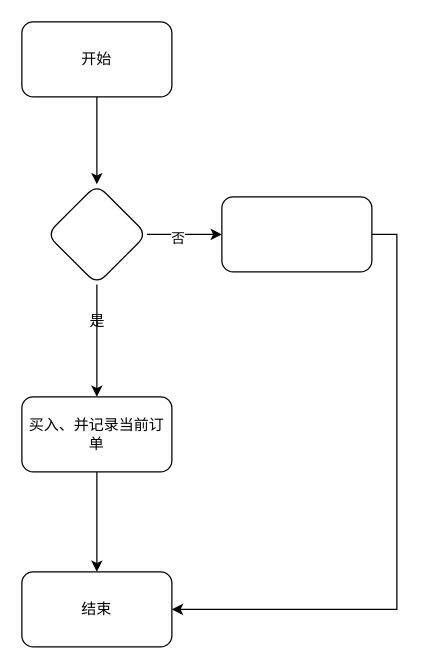
Some shapes in this 429 by 669 pixel diagram are drawn without their labels. Here are the shapes that lost their labels. From the top down, the centre of each, then its label:
[96,233]: 是否符合买入策略
[296,234]: 继续监听
